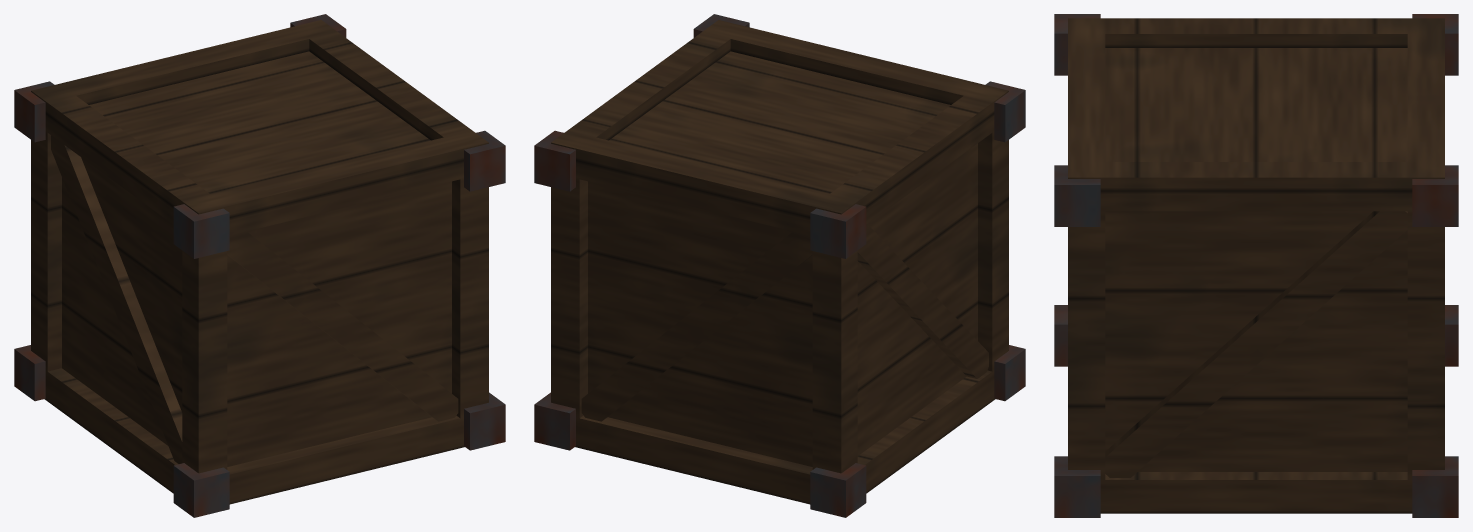
File: Prop_CrateWooden.fbx
3 renders of one model, left to right at view 1: azimuth 30°, elevation 25°; view 2: azimuth 150°, elevation 25°; view 3: azimuth 270°, elevation 25°, orthographic. The views are drawn at different scales.
Parts seen in each view (by area): view 1: Prop_CrateWooden; view 2: Prop_CrateWooden; view 3: Prop_CrateWooden.
Part boxes in pixels (x1,y1,x2,y2): Prop_CrateWooden: (14, 14, 505, 517); Prop_CrateWooden: (534, 14, 1025, 517); Prop_CrateWooden: (1054, 14, 1458, 517).
Bounding box in the file's own units: 1.31 × 1.2 × 1.31.
